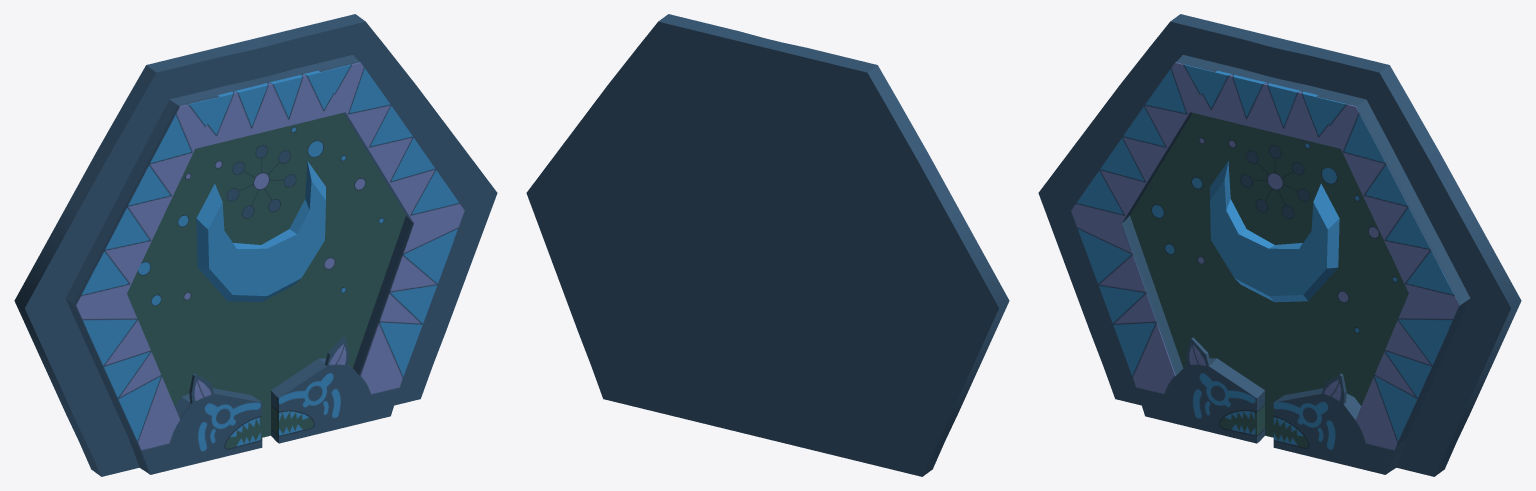
Rendered from M_Menu_Cont_EspiritualPuertaLuna.FBX.
The picture shows the model from 3 angles, left to right: view 1: azimuth 30°, elevation 25°; view 2: azimuth 150°, elevation 25°; view 3: azimuth 330°, elevation 25°; orthographic projection.
Parts seen in each view (by area): view 1: Box001; view 2: Box001; view 3: Box001.
Part boxes in pixels (<box>): Box001: <box>14,14,497,476</box>; Box001: <box>526,14,1009,476</box>; Box001: <box>1038,14,1521,476</box>.
Size of the model in its own units: 116 by 91.47 by 8.39.
1 material, 1 textured.
